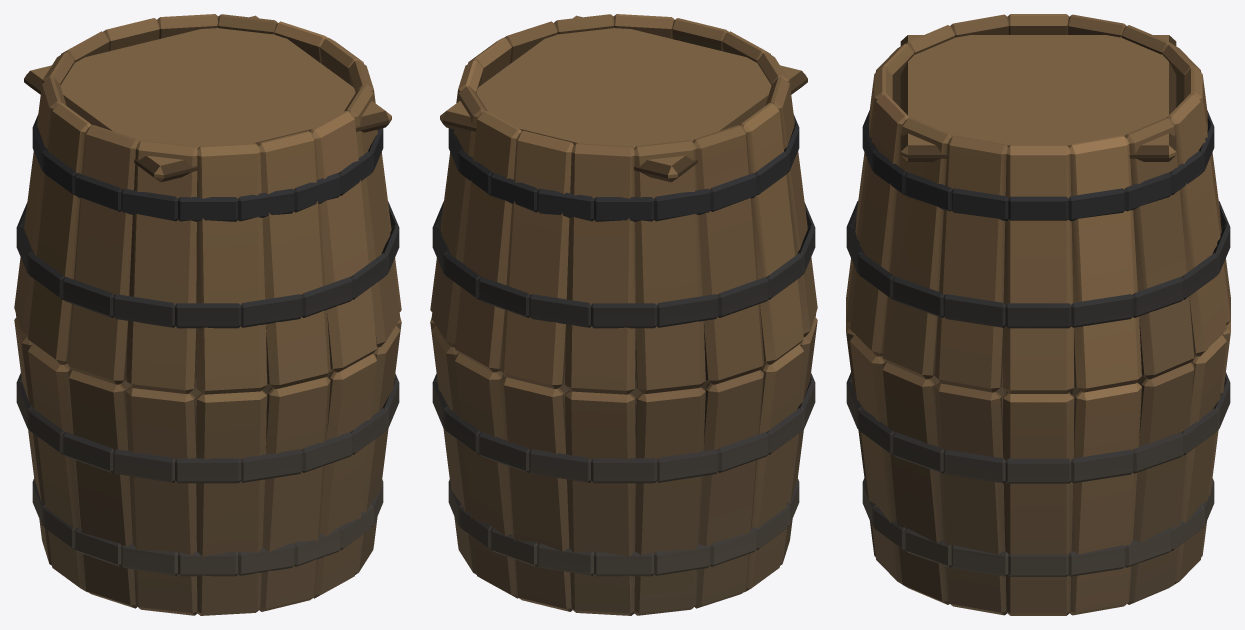
Rendered from barrel.glb.
3 views of the same model, side by side, from view 1: azimuth 30°, elevation 25°; view 2: azimuth 150°, elevation 25°; view 3: azimuth 270°, elevation 25° (orthographic).
Visible parts, largest first — view 1: wood-001, dark-001; view 2: wood-001, dark-001; view 3: wood-001, dark-001.
Boxes of the visible parts, box(x1,y1,x2,y2) form: wood-001: box(14, 14, 401, 615); dark-001: box(16, 114, 399, 576); wood-001: box(430, 14, 817, 615); dark-001: box(432, 114, 815, 576); wood-001: box(846, 14, 1230, 615); dark-001: box(846, 110, 1230, 576).
Bounding box in the file's own units: 0.6277 × 0.8463 × 0.6277.
